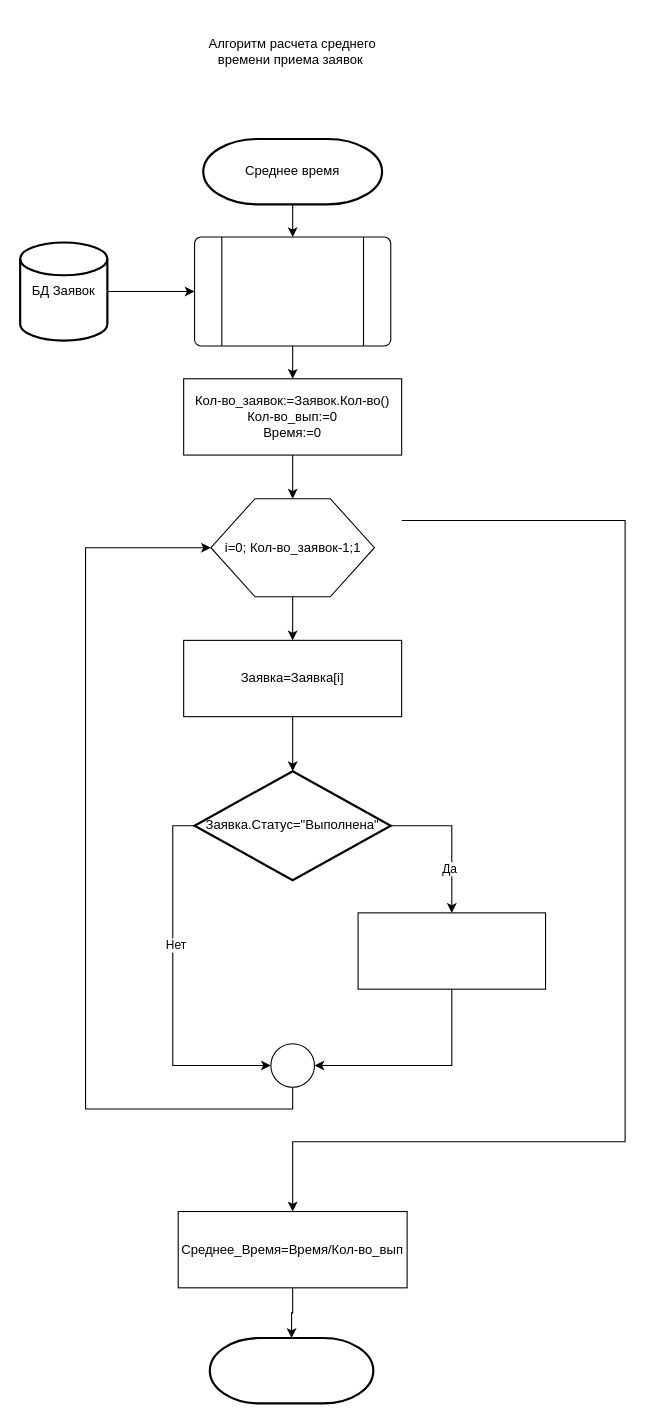
This 653x1422 diagram has some shape labels left out. The shapes that lost their labels are listed below. From the top down, each one's centre as x and y in pixels, then its label:
At (x=292, y=291): "Получить все заявки".
At (x=451, y=950): "Кол-во_вып++ Время+=Заявка.Время".
At (x=291, y=1370): "Среднее_время".
